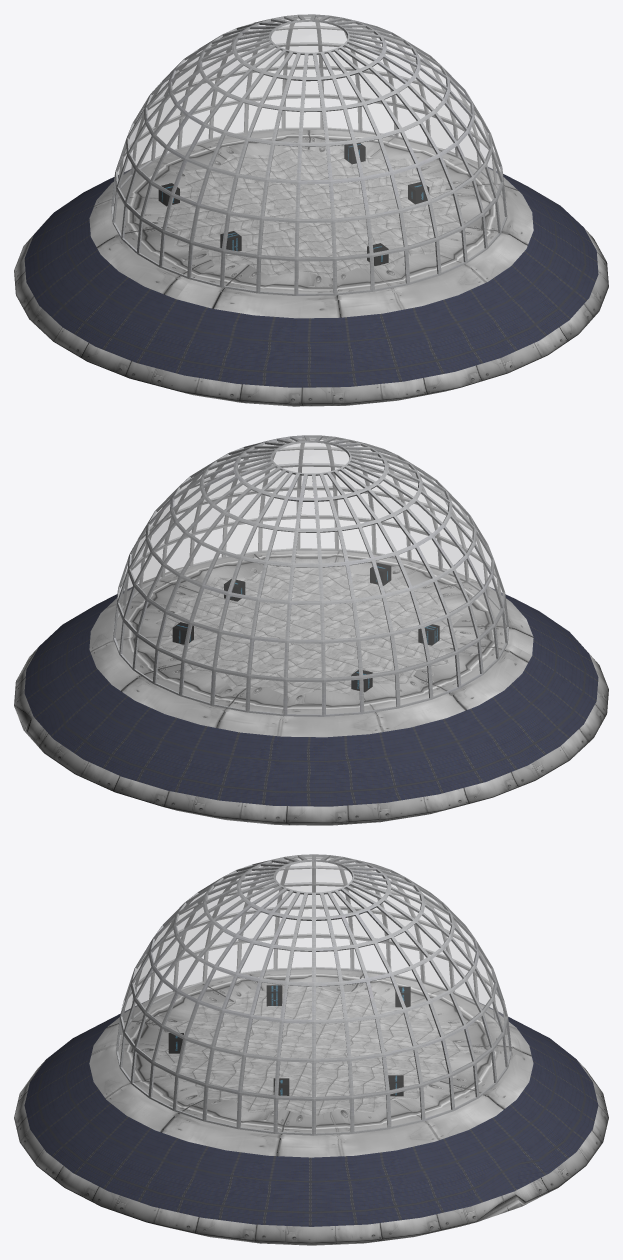
File: portfolio_world.glb
3 renders of one model, top to bottom at view 1: azimuth 30°, elevation 25°; view 2: azimuth 150°, elevation 25°; view 3: azimuth 270°, elevation 25°, orthographic.
Visible parts, largest first — view 1: Cone, glass_sphere, frame; view 2: Cone, glass_sphere, frame; view 3: Cone, glass_sphere, frame.
Boxes of the visible parts, x1,y1,x2,y2 form: Cone: (14, 129, 608, 406); glass_sphere: (114, 17, 504, 293); frame: (111, 14, 507, 295); Cone: (14, 550, 608, 825); glass_sphere: (116, 438, 506, 714); frame: (113, 435, 508, 716); Cone: (14, 969, 608, 1245); glass_sphere: (118, 857, 508, 1132); frame: (116, 854, 511, 1135).
Bounding box in the file's own units: 76.18 × 46.09 × 76.18.
9 materials, 8 textured.
